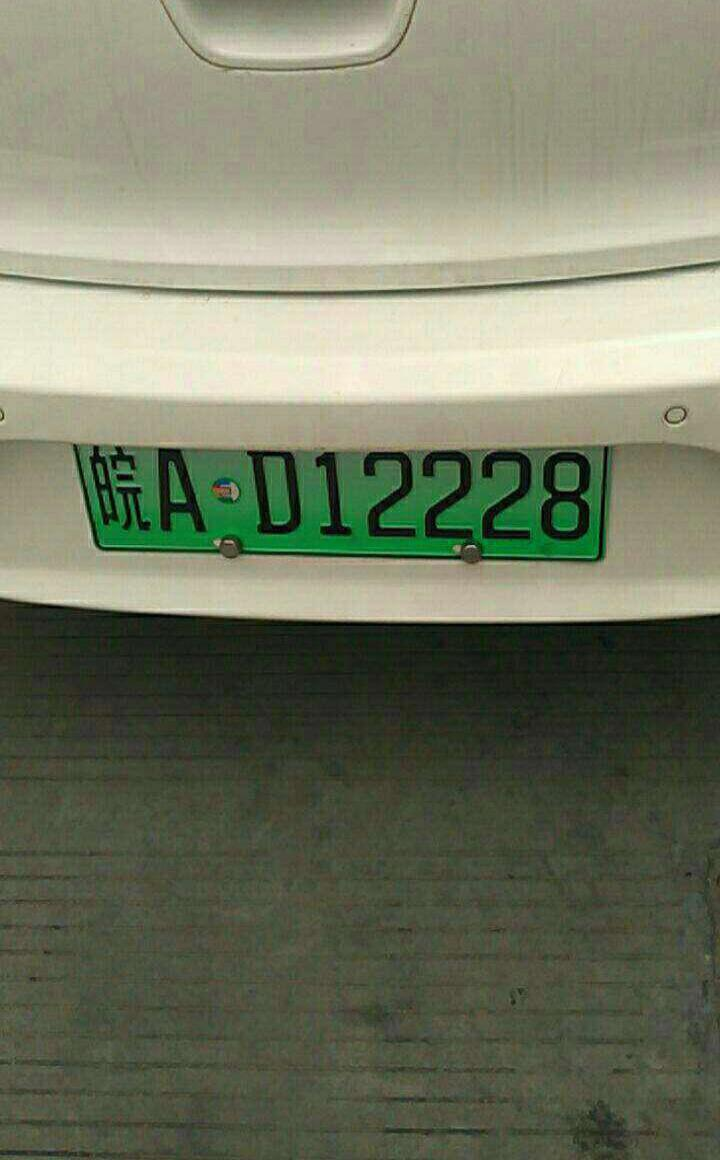car: (74, 437, 623, 566)
